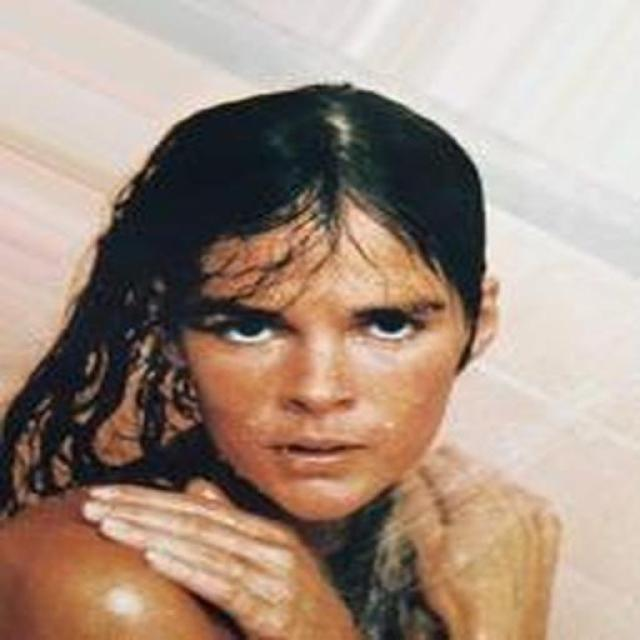bareface: (106, 92, 512, 530)
